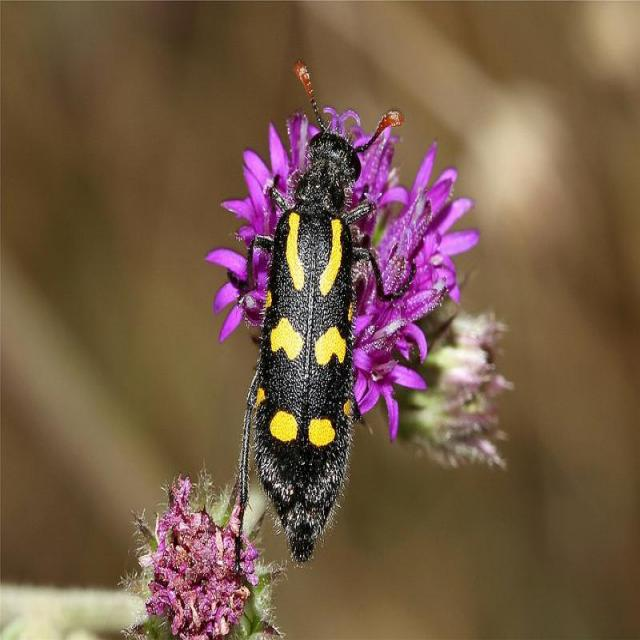BlisterBeetle-Adult-: (235, 39, 407, 572)
